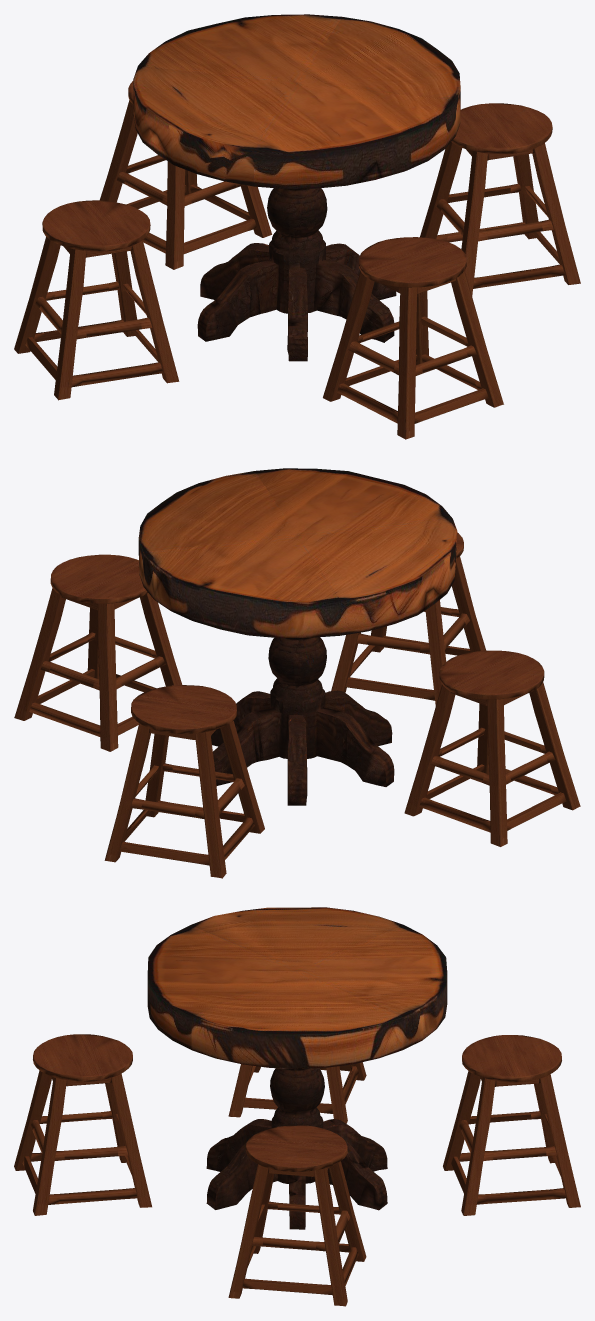
The model's file is tavern-table-set.glb.
3 views of the same model, one above another, from view 1: azimuth 30°, elevation 25°; view 2: azimuth 150°, elevation 25°; view 3: azimuth 270°, elevation 25° (orthographic). The views are drawn at different scales.
Size of the model in its own units: 1.8 by 0.76 by 1.8.
Materials: 2 (2 with a texture image).
